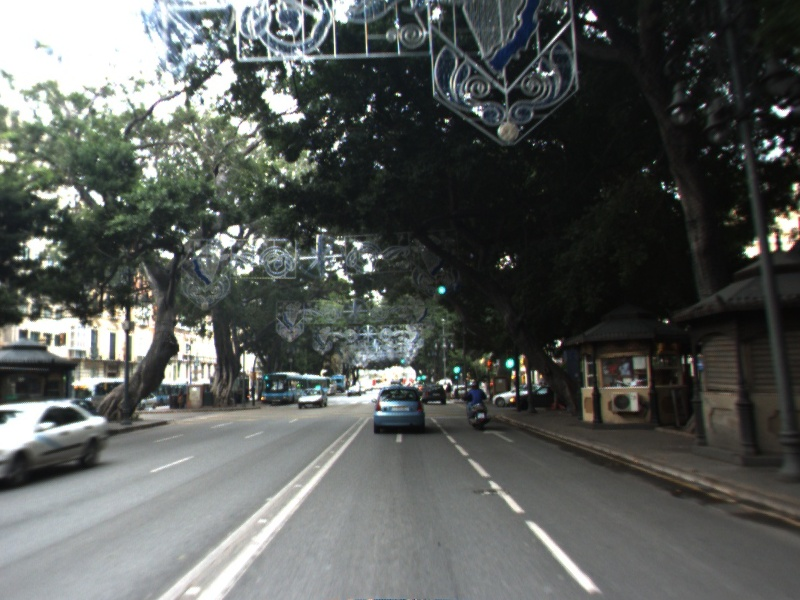STRAIGHT: (481, 427, 516, 444)
